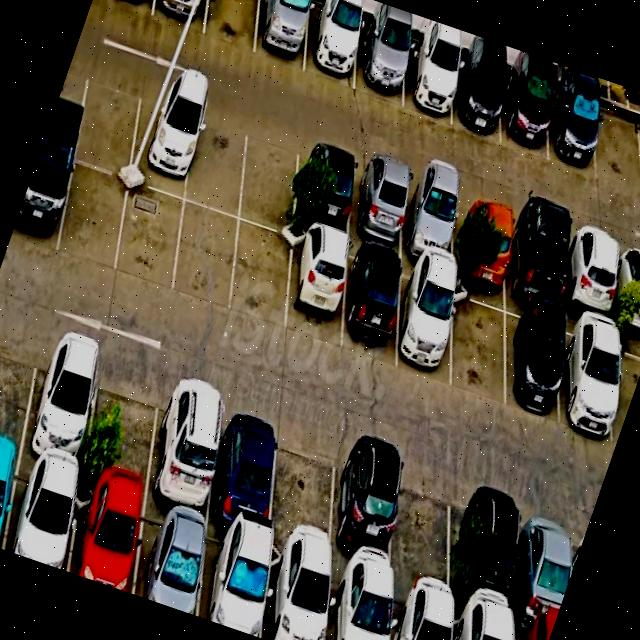empty: (72, 381, 168, 506), (252, 446, 350, 564), (375, 474, 466, 596), (434, 295, 524, 402), (178, 106, 260, 216), (107, 180, 192, 284), (50, 168, 136, 270), (235, 123, 316, 229), (64, 76, 148, 176), (218, 220, 299, 320), (166, 202, 245, 298), (0, 330, 47, 465), (582, 86, 640, 186), (195, 0, 276, 53)
occupied: (125, 402, 228, 532), (7, 362, 106, 487), (311, 454, 409, 580), (194, 429, 286, 556), (440, 488, 531, 614), (549, 326, 639, 447), (497, 514, 585, 632), (385, 270, 473, 384), (494, 307, 580, 422), (120, 81, 210, 190), (496, 208, 580, 322), (442, 184, 526, 297), (334, 248, 416, 360), (272, 232, 358, 338), (547, 229, 628, 339), (280, 137, 366, 240), (61, 494, 151, 592), (130, 518, 219, 614), (194, 538, 280, 636), (442, 34, 520, 138), (492, 52, 568, 154), (389, 173, 466, 273), (0, 478, 84, 568), (348, 1, 424, 100), (397, 19, 471, 120), (542, 68, 615, 170), (342, 158, 416, 253), (258, 565, 347, 640), (11, 152, 78, 249), (298, 0, 373, 83), (245, 0, 324, 72), (320, 582, 407, 640), (598, 242, 640, 353), (385, 602, 468, 640), (0, 453, 21, 547), (148, 0, 221, 24)
